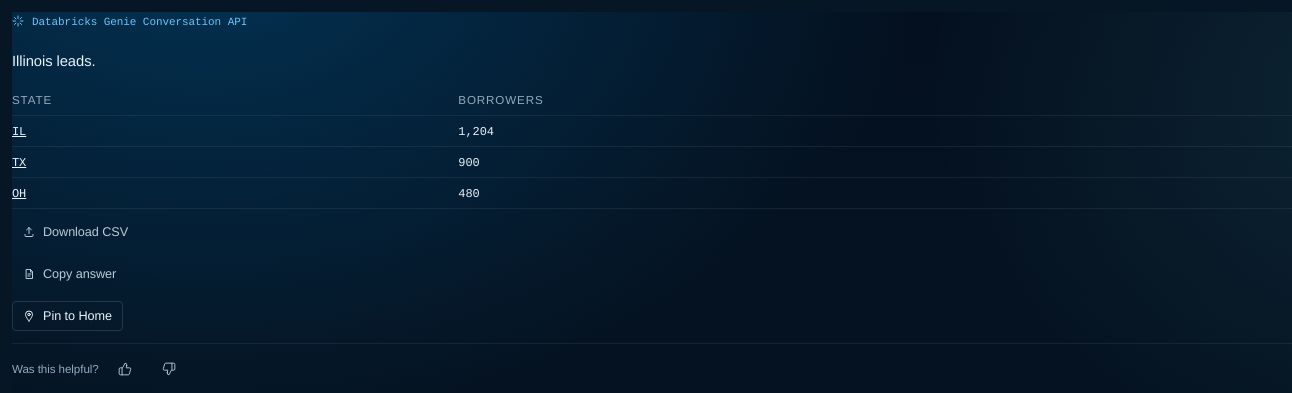
Test: Genie answer CSV download (genie-06 slice 2) › a throw while the file is built releases the latch: refused, no POST, the button re-enabled
Click the button with class "genie-answer__download".
click(76, 232)  # box [12,217,139,247]
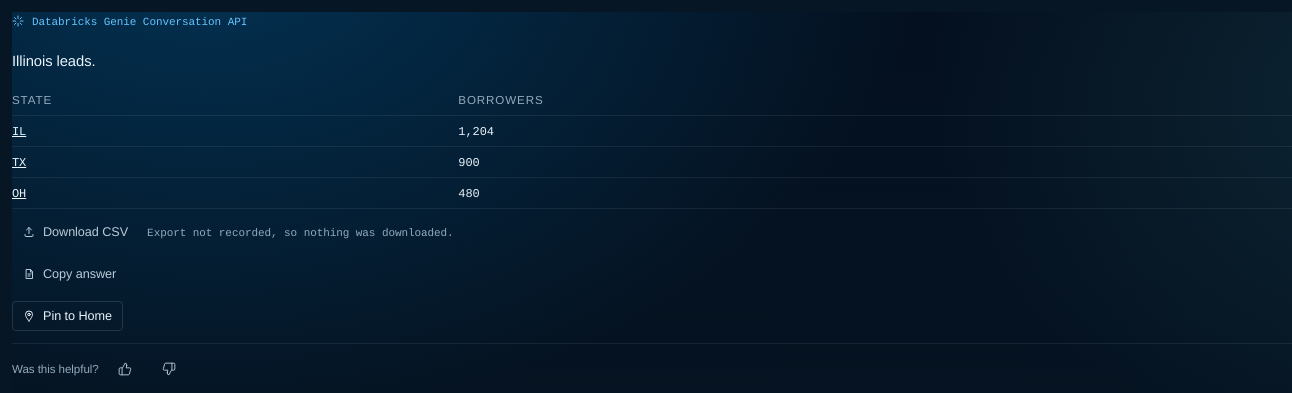
expect the text "Export not recorded, so nothing was downloaded." is shown: met, box [147,224,454,240]
